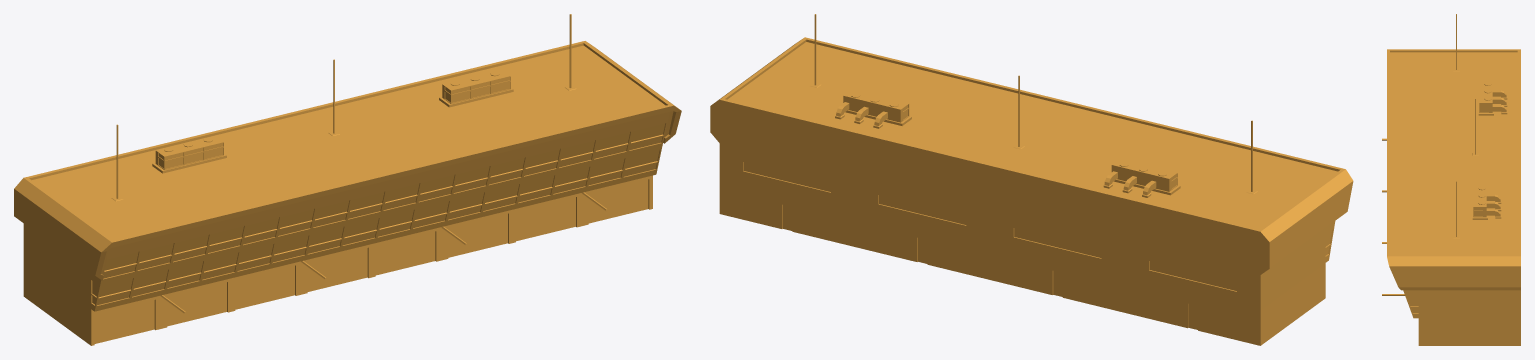
The model's file is building-race-track-long.fbx.
3 views of the same model, side by side, from view 1: azimuth 30°, elevation 25°; view 2: azimuth 150°, elevation 25°; view 3: azimuth 270°, elevation 25° (orthographic). The views are drawn at different scales.
Visible parts, largest first — view 1: building-race-track-long; view 2: building-race-track-long; view 3: building-race-track-long.
Boxes of the visible parts, <box> form: building-race-track-long: <box>14,14,681,345</box>; building-race-track-long: <box>710,14,1353,345</box>; building-race-track-long: <box>1382,14,1520,345</box>.
Size of the model in its own units: 49.58 by 15.51 by 13.58.
